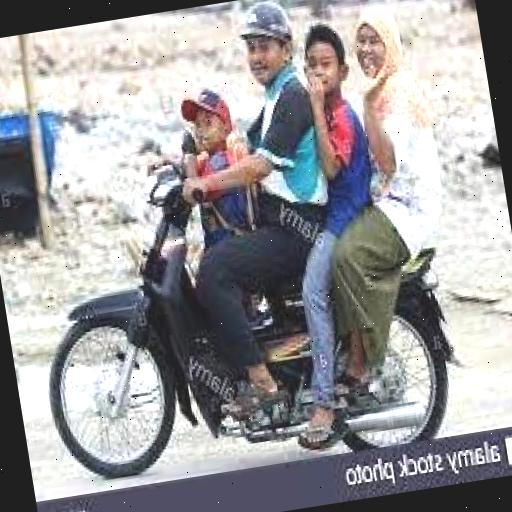no helmet: (234, 0, 321, 109)
triple riding: (5, 0, 502, 492)
